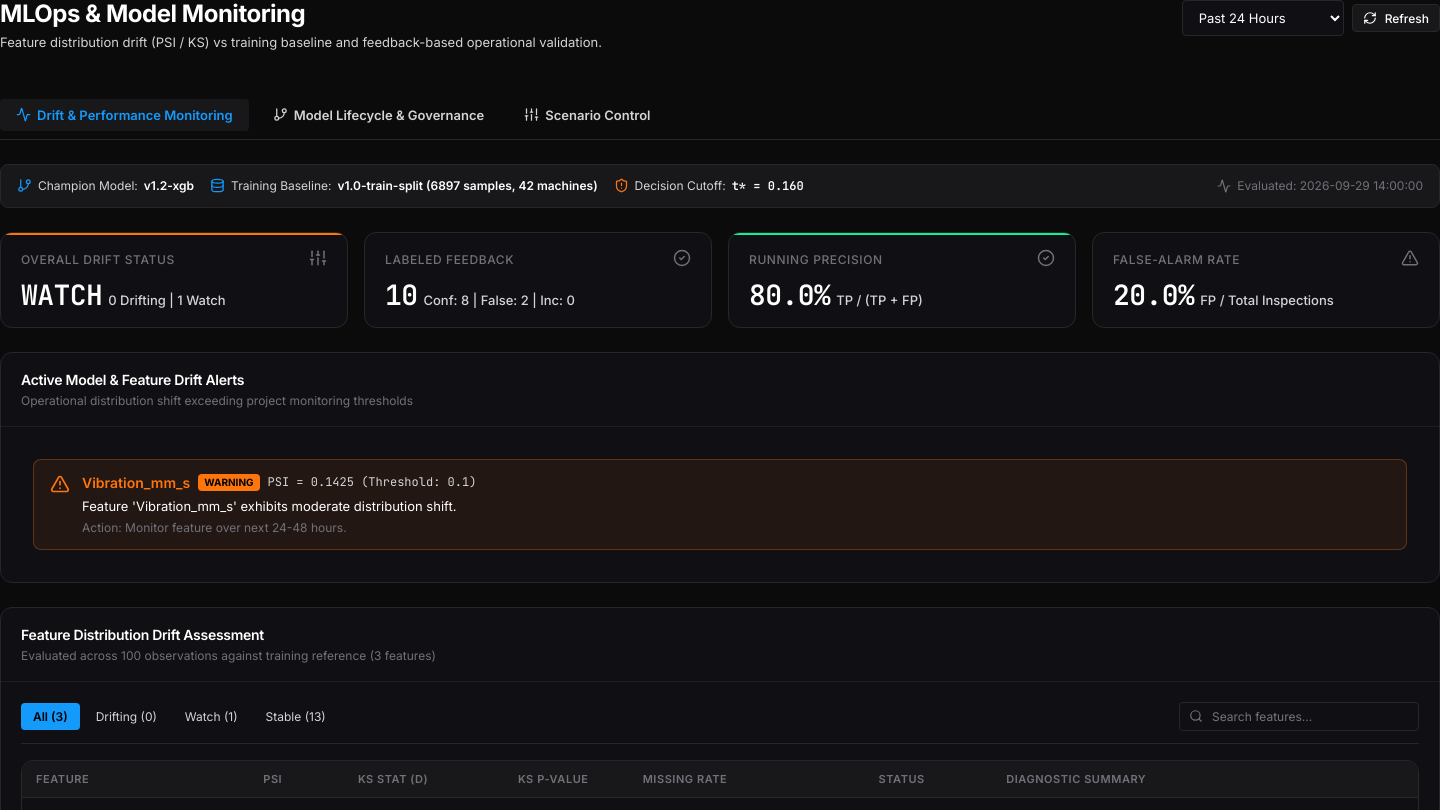
MLOps Page (T-060) › filters features table by search query
This screenshot has width=1440, height=810.
Expected: the heading "MLOps & Model Monitoring" is shown, [0,0,305,29]
Type "Process" into the field with placeholder "Search features..." at (1299, 716), box [1179,702,1419,731]
(page scrolled)
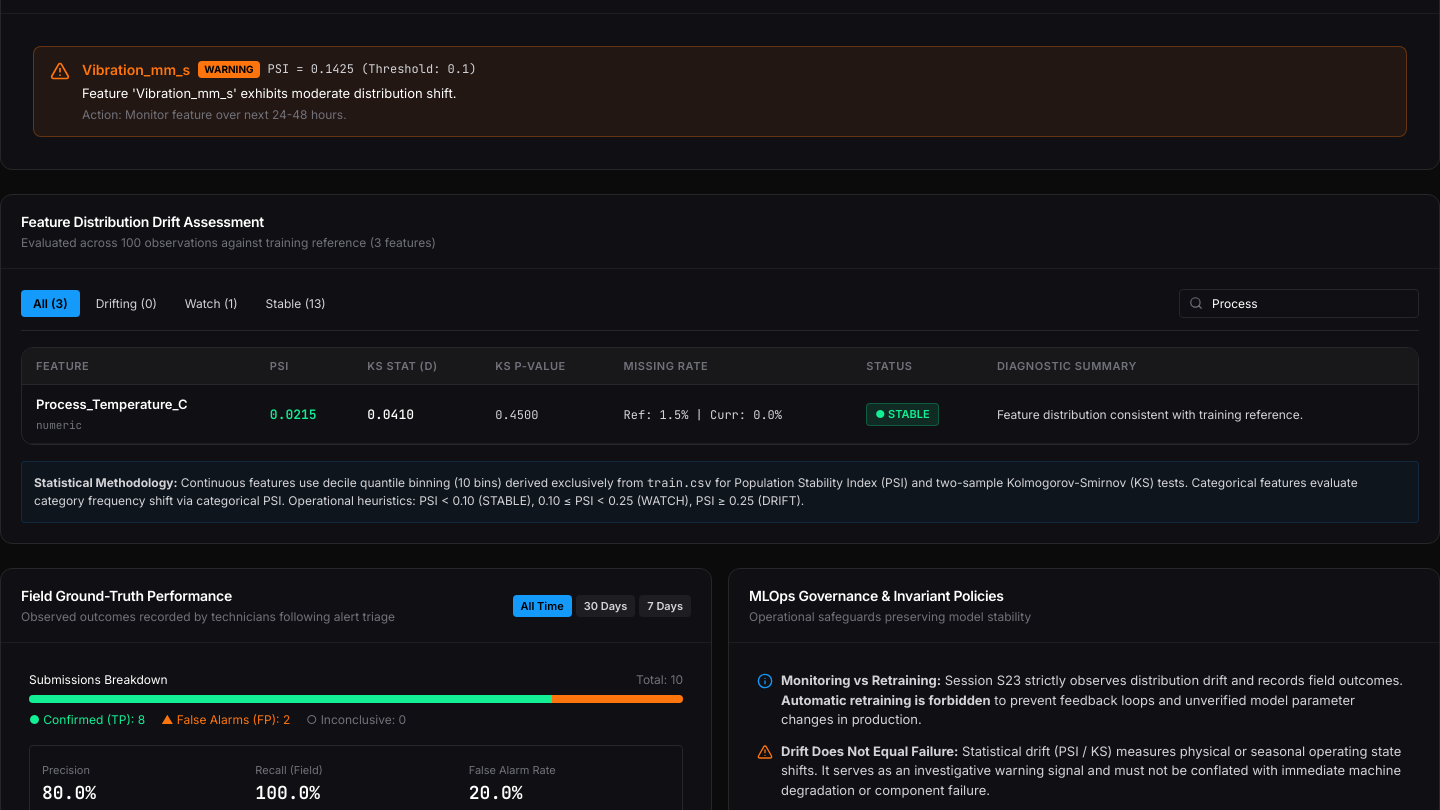
Expected: the text "Process_Temperature_C" is shown, [36,396,188,412]
Result: the text "Vibration_mm_s" is shown once at [82,59,190,80]
